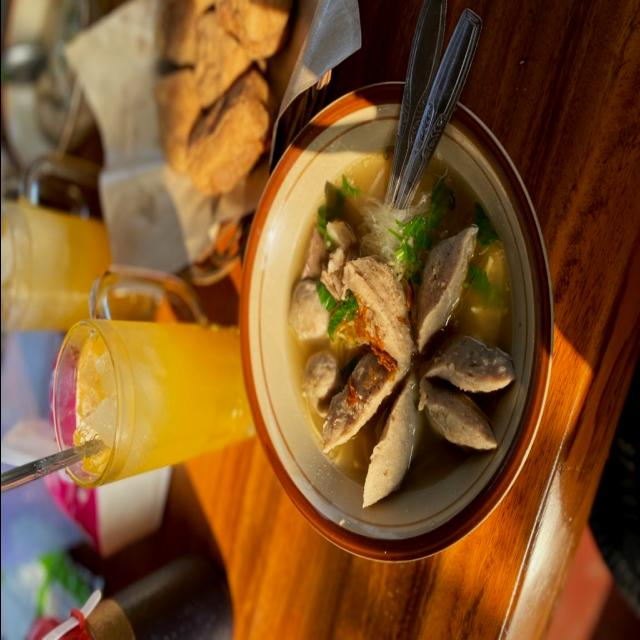bakso: (288, 154, 514, 508)
